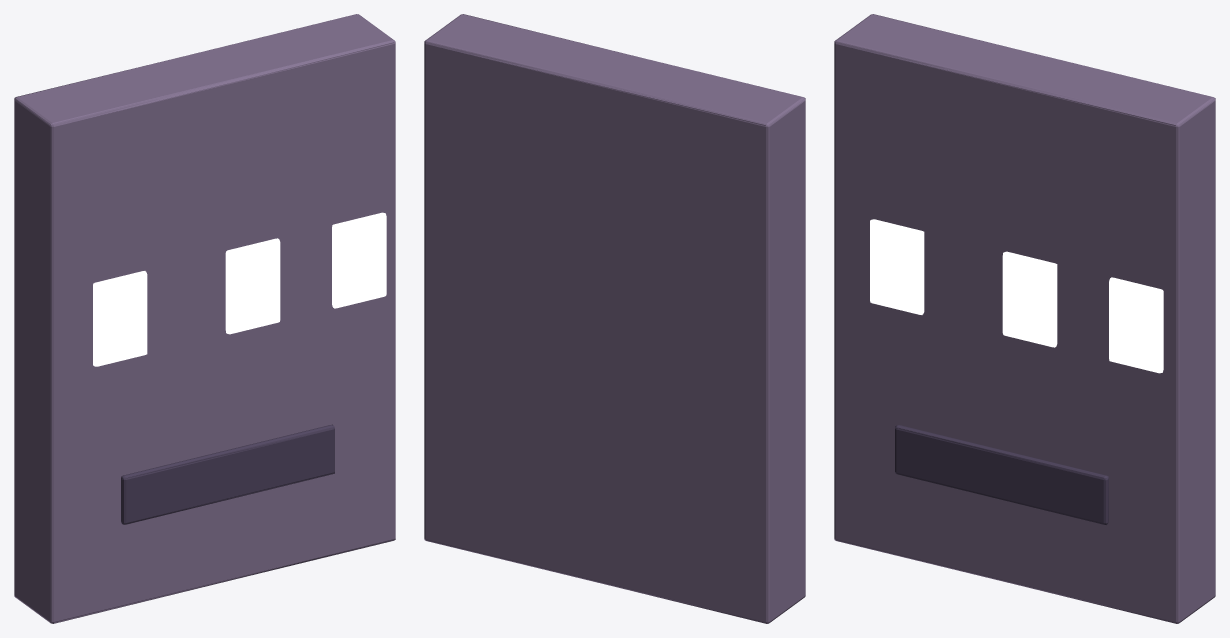
Rendered from SM_Labor_LabWall.fbx.
3 renders of one model, left to right at view 1: azimuth 30°, elevation 25°; view 2: azimuth 150°, elevation 25°; view 3: azimuth 330°, elevation 25°, orthographic.
Parts seen in each view (by area): view 1: LOD0_SM_Labor_LabWall, LOD1_SM_Labor_LabWall; view 2: LOD0_SM_Labor_LabWall, LOD1_SM_Labor_LabWall; view 3: LOD0_SM_Labor_LabWall, LOD1_SM_Labor_LabWall.
Part boxes in pixels (x1=…): LOD0_SM_Labor_LabWall: x1=14, y1=14, x2=395, y2=622; LOD1_SM_Labor_LabWall: x1=14, y1=14, x2=395, y2=623; LOD0_SM_Labor_LabWall: x1=424, y1=14, x2=805, y2=623; LOD1_SM_Labor_LabWall: x1=424, y1=32, x2=805, y2=623; LOD0_SM_Labor_LabWall: x1=834, y1=14, x2=1215, y2=623; LOD1_SM_Labor_LabWall: x1=835, y1=32, x2=1215, y2=623.
Size of the model in its own units: 2.6 by 3.6 by 0.575.
